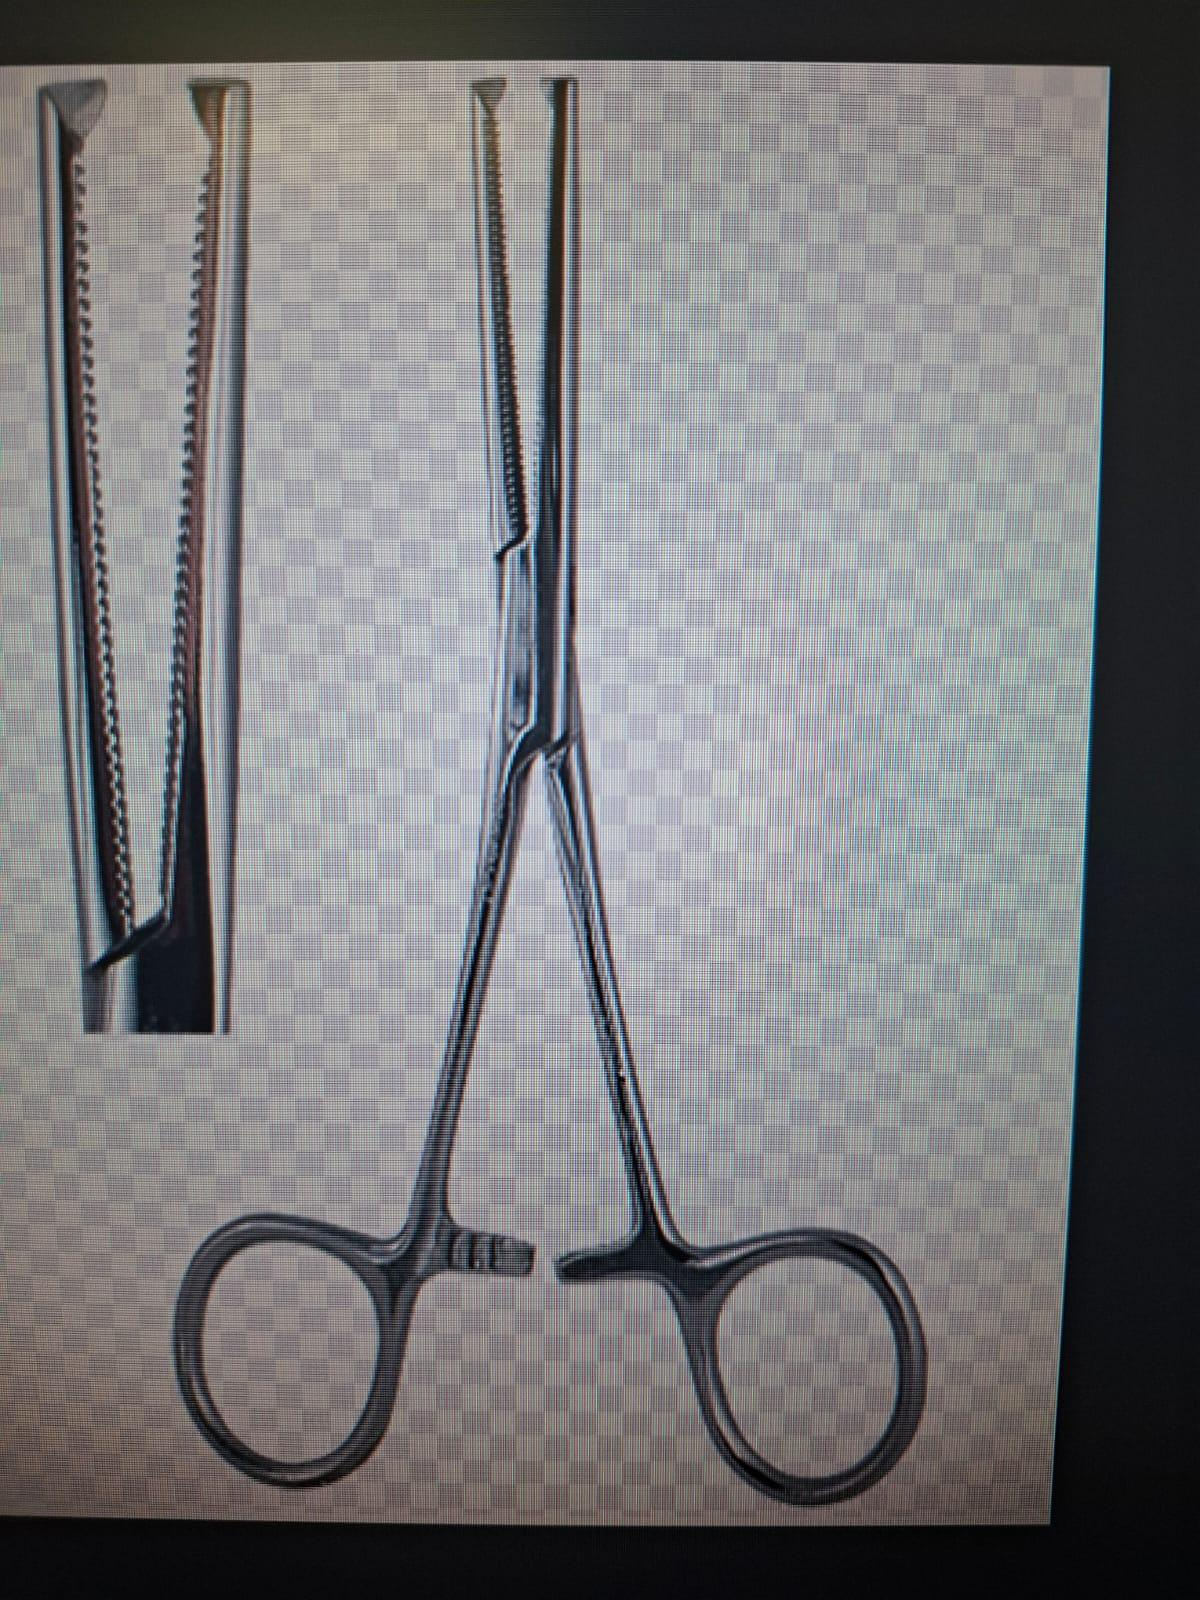Kocher Forceps: (157, 67, 945, 1518)
